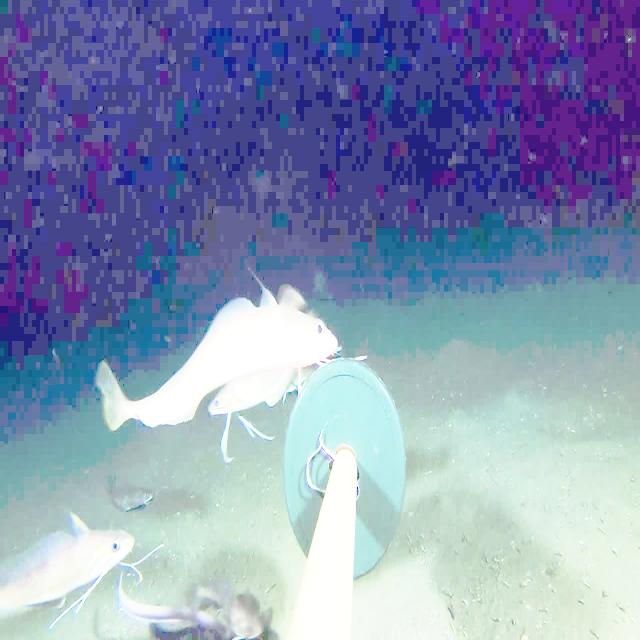eel: (107, 570, 245, 631)
fish: (82, 287, 346, 448), (6, 514, 145, 624), (206, 350, 307, 424), (179, 568, 279, 639), (90, 473, 162, 509)
pole: (280, 356, 407, 639)
